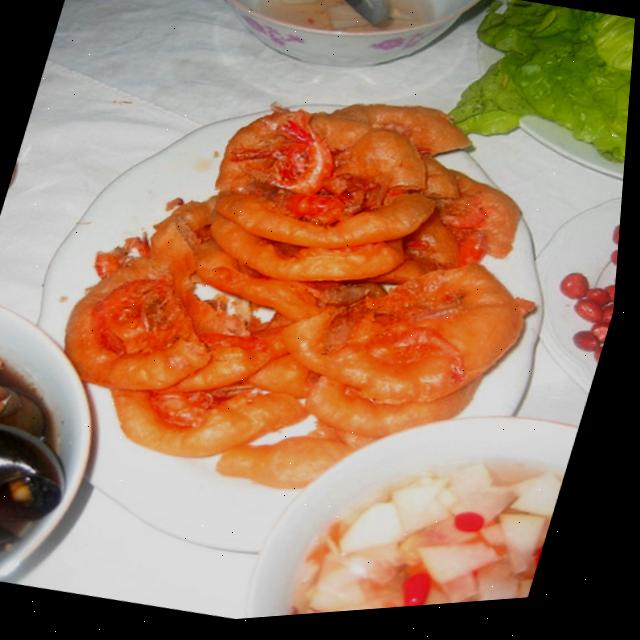炸货点心: (0, 7, 637, 614)
熟制海鲜: (0, 7, 637, 614)
